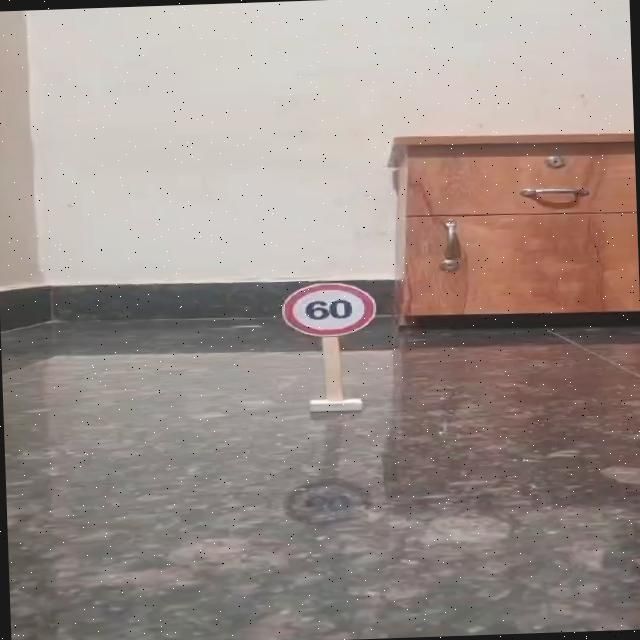Speed60: (268, 276, 385, 342)
